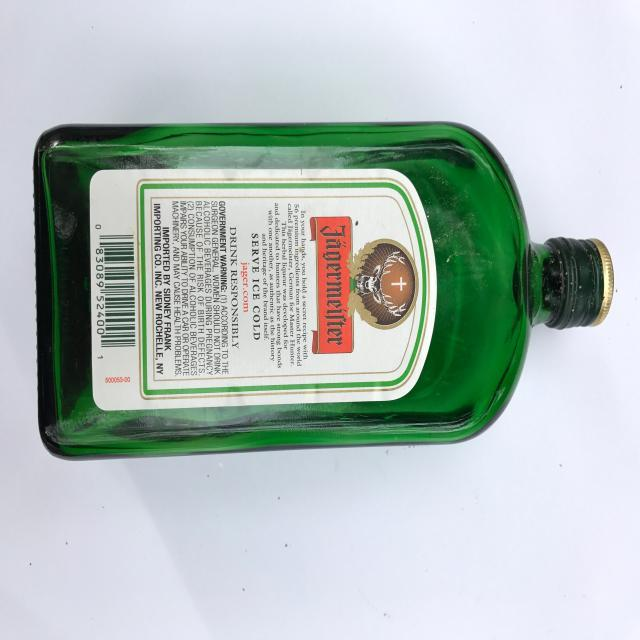glass: (32, 122, 616, 466)
